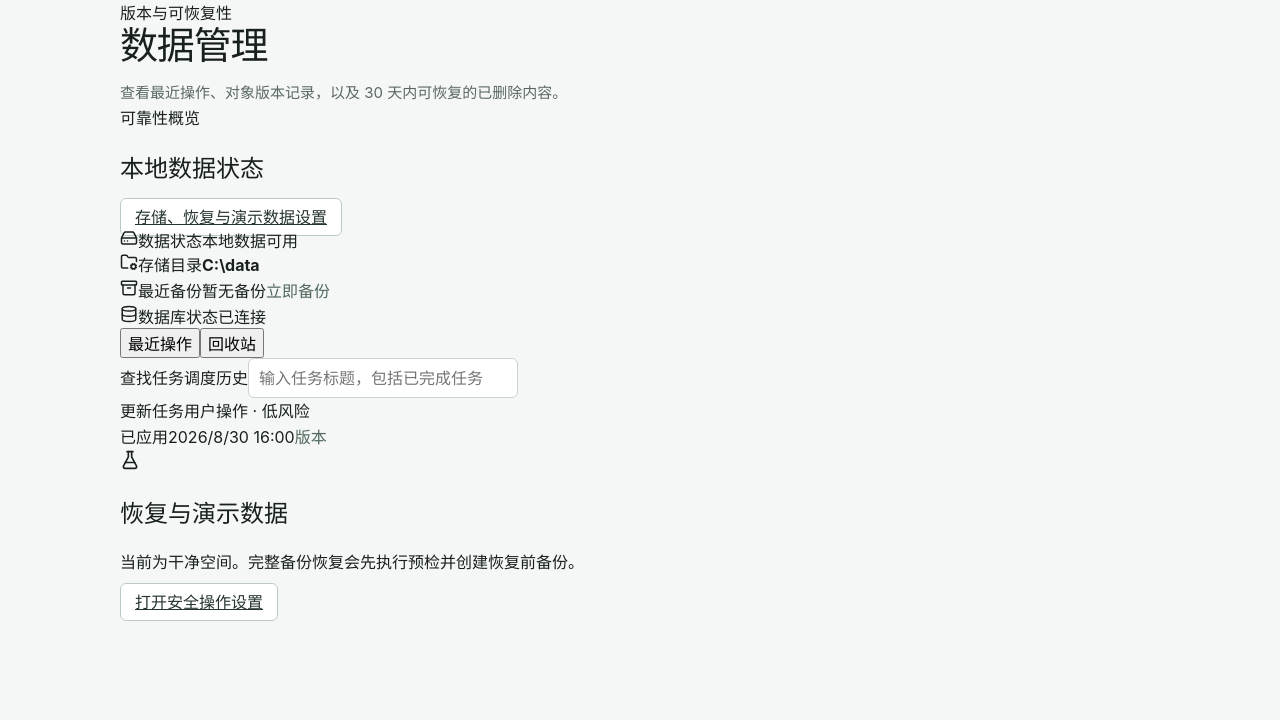
it: DataManagementPage history closure › shows field-level before/after when viewing changes
Click the button "版本".
click(311, 436)  # box [295,422,327,450]
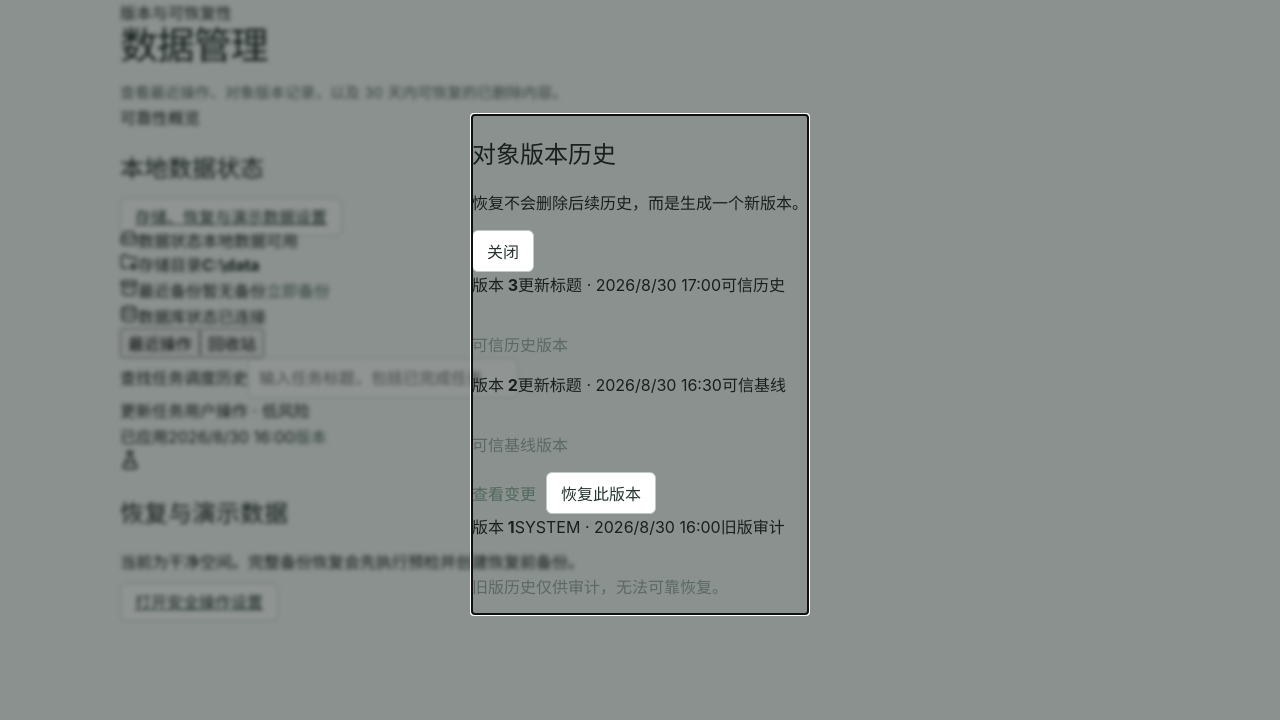
Result: the heading "对象版本历史" is shown at [472,140,616,169]
Click the button "查看变更".
click(504, 493)  # box [472,479,536,507]
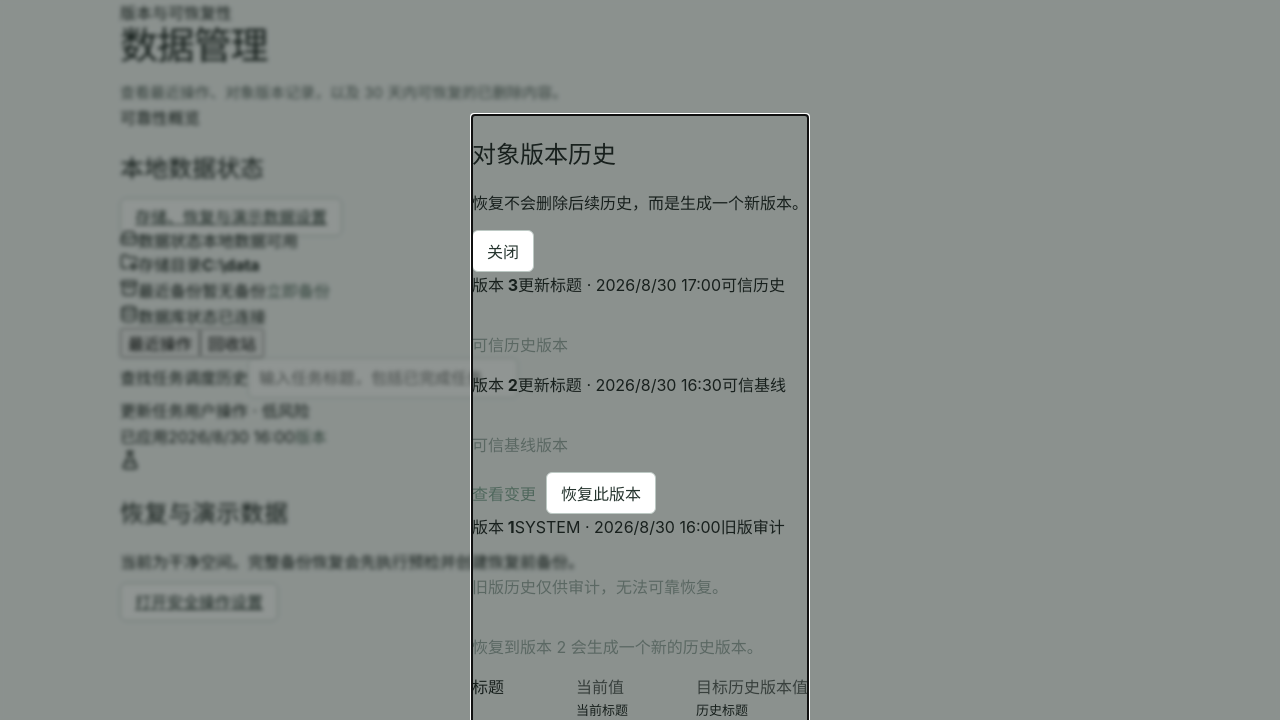
Result: the text "当前值" is shown 2 times
Result: the text "目标历史版本值" is shown 2 times
Result: the text "标题" is shown at [472,677,504,697]
